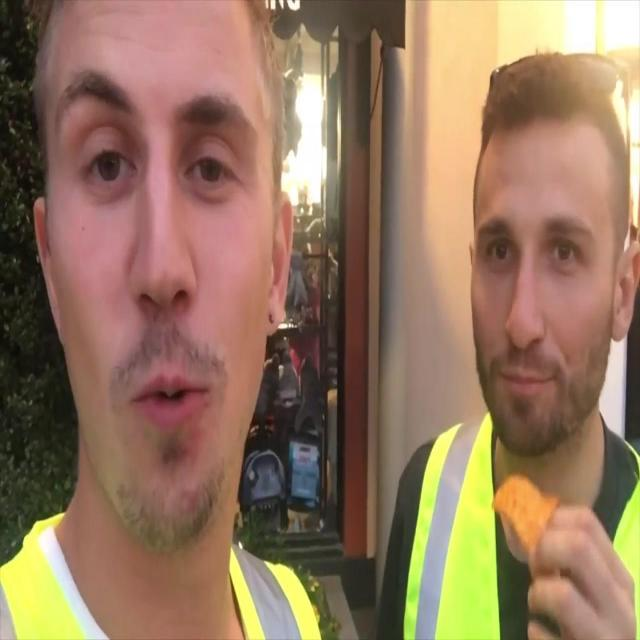con_chaleco: (402, 413, 640, 639), (0, 510, 324, 639)
